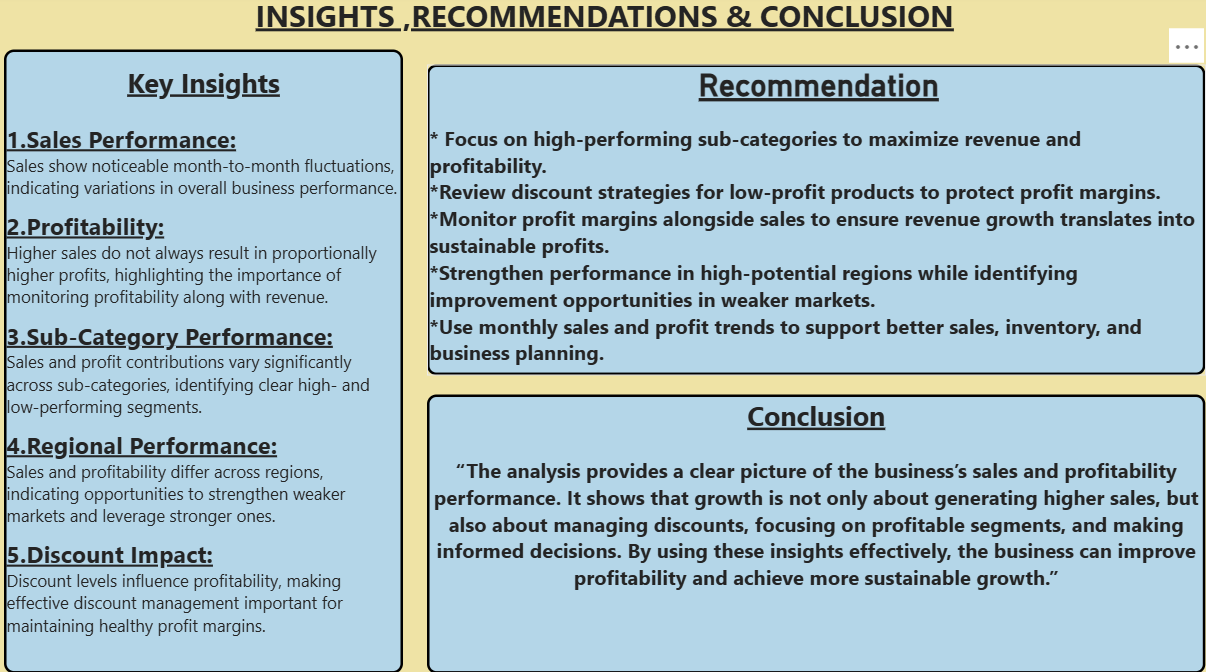

Layout of this report page (visuals, bound fields, positions):
{"tool":"powerbi","page":{"name":"Insights & Recommendations","canvas":[1920,1080],"ordinal":4},"visuals":[{"type":"textbox","box":[9.5,0,1911.1,88.3],"z":0},{"type":"textbox","box":[9.5,88.3,634.7,992.5],"z":1001},{"type":"textbox","title":"Recommendation","box":[682.4,112.1,1238.3,493.9],"z":1002},{"type":"textbox","box":[682.4,637,1238.3,443.8],"z":1003}]}

Visuals, with their boxes in screenshot pixels (x1, y1, x2, y2), scaled from the page's 1920x1080 canvas onto the 1206x672 screenshot:
textbox: detection(6, 0, 1205, 55)
textbox: detection(6, 55, 405, 671)
"Recommendation" textbox: detection(429, 70, 1205, 377)
textbox: detection(429, 396, 1205, 671)
